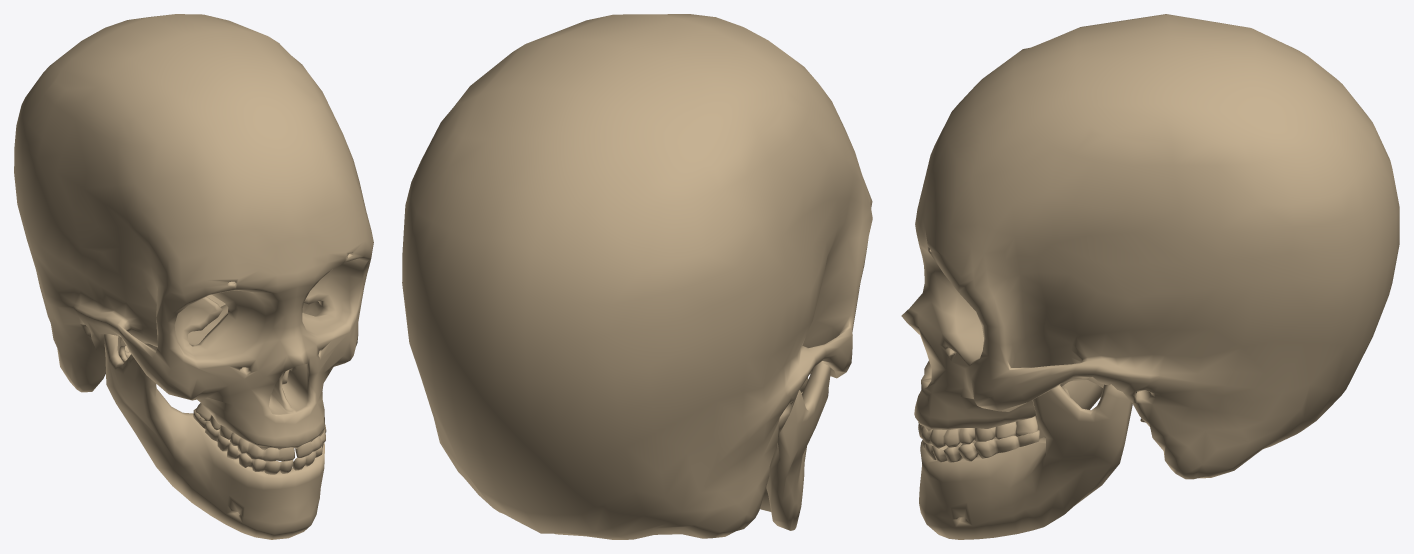
The model's file is Skull.fbx.
3 renders of one model, left to right at view 1: azimuth 30°, elevation 25°; view 2: azimuth 150°, elevation 25°; view 3: azimuth 270°, elevation 25°, orthographic. The views are drawn at different scales.
Parts seen in each view (by area): view 1: Skull; view 2: Skull; view 3: Skull.
Boxes of the visible parts, left/top/right/bottom form: Skull: left=14, top=14, right=373, bottom=539; Skull: left=402, top=14, right=872, bottom=539; Skull: left=901, top=14, right=1399, bottom=539.
Bounding box in the file's own units: 11.2 × 17.63 × 16.24.
